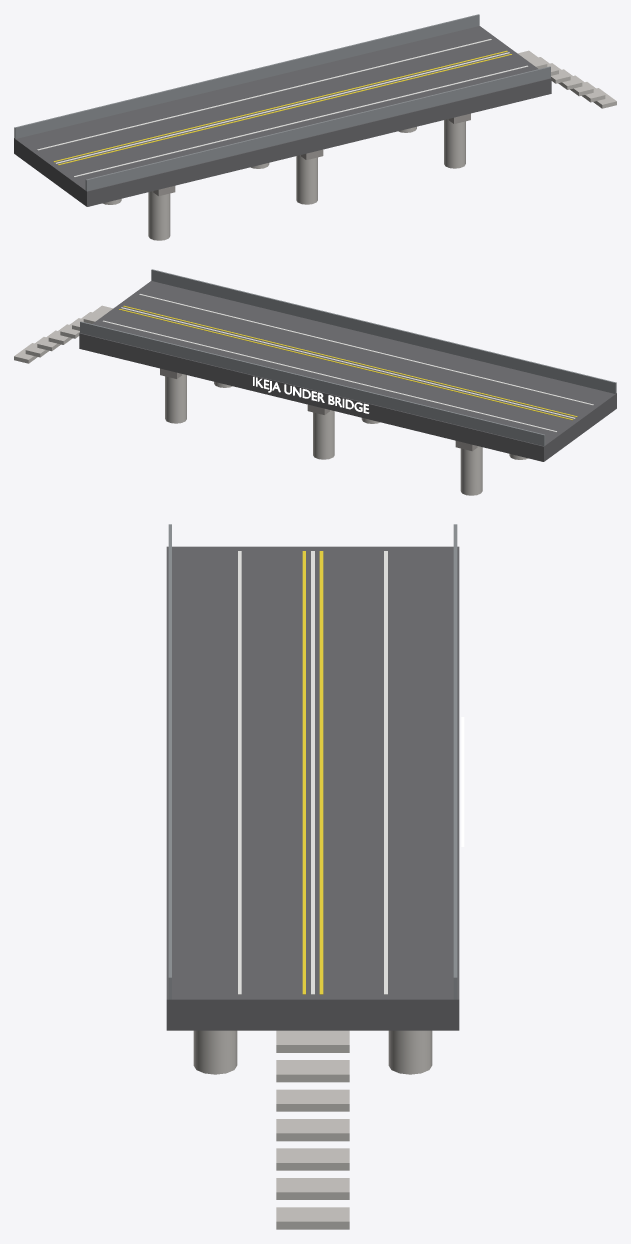
File: ikeja_underbridge.glb
The picture shows the model from 3 angles, top to bottom: view 1: azimuth 30°, elevation 25°; view 2: azimuth 150°, elevation 25°; view 3: azimuth 270°, elevation 25°; orthographic projection. The views are drawn at different scales.
Visible parts, largest first — view 1: BLD_ikeja_underbridge; view 2: BLD_ikeja_underbridge; view 3: BLD_ikeja_underbridge.
Boxes of the visible parts, x1,y1,x2,y2 form: BLD_ikeja_underbridge: (14,14,616,240); BLD_ikeja_underbridge: (14,269,616,495); BLD_ikeja_underbridge: (166,524,464,1229).
Bounding box in the file's own units: 52.8 × 7.7 × 12.21.
